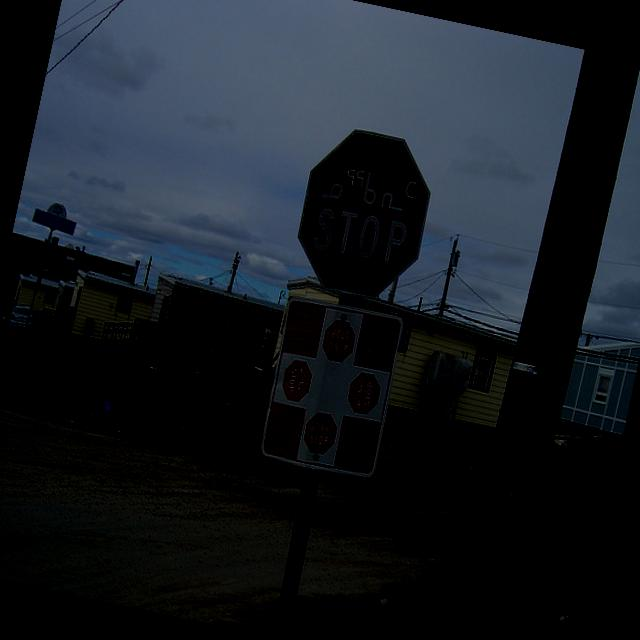Vehicle: (4, 302, 36, 336)
